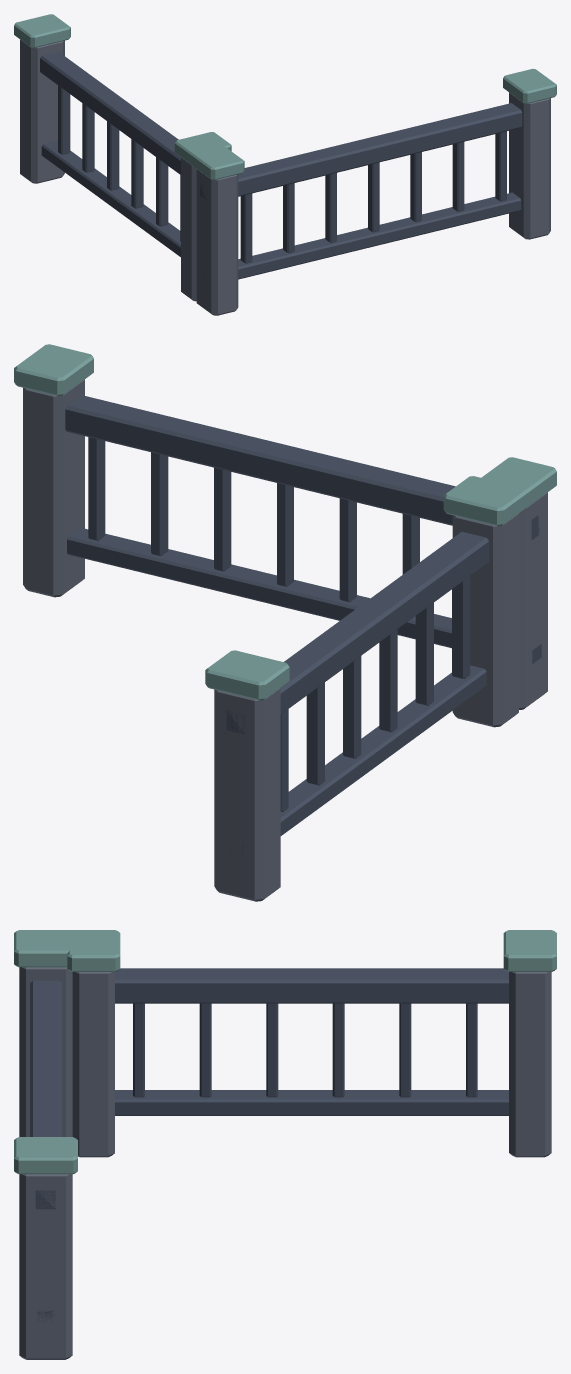
The model's file is railing-corner.glb.
The picture shows the model from 3 angles, top to bottom: view 1: azimuth 30°, elevation 25°; view 2: azimuth 150°, elevation 25°; view 3: azimuth 270°, elevation 25°; orthographic projection. The views are drawn at different scales.
Parts seen in each view (by area): view 1: railing-corner__body; view 2: railing-corner__body; view 3: railing-corner__body.
Boxes of the visible parts, <box> form: railing-corner__body: <box>14,14,556,315</box>; railing-corner__body: <box>14,344,556,901</box>; railing-corner__body: <box>14,930,556,1359</box>.
Size of the model in its own units: 2.04 by 0.85 by 2.04.
